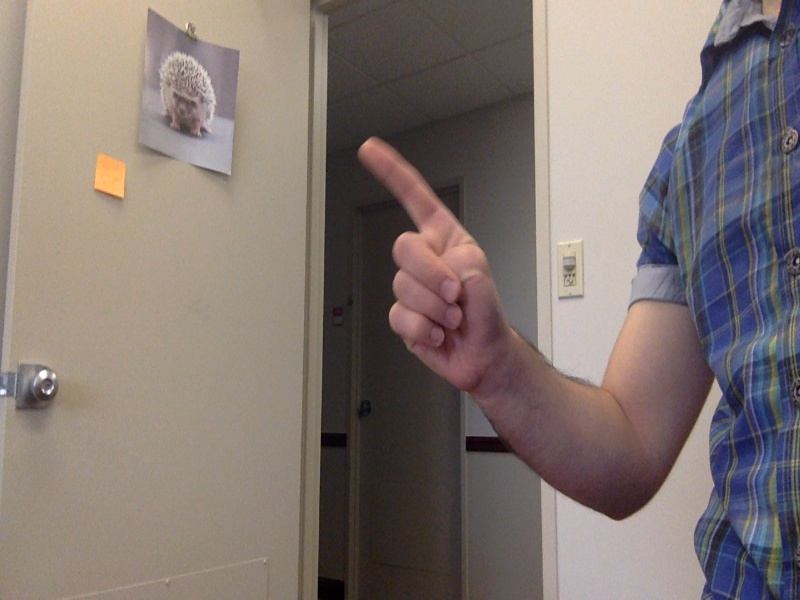1-hand: (356, 138, 502, 392)
